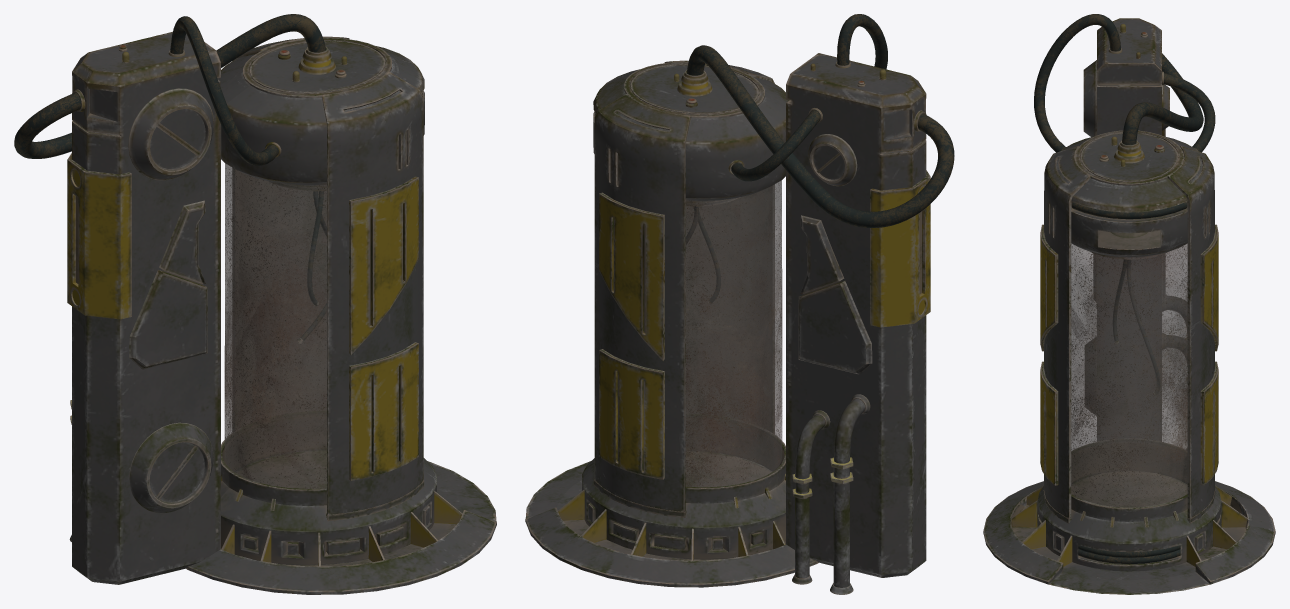
The model's file is sci-fi_capsule.glb.
The picture shows the model from 3 angles, left to right: view 1: azimuth 30°, elevation 25°; view 2: azimuth 150°, elevation 25°; view 3: azimuth 270°, elevation 25°; orthographic projection. The views are drawn at different scales.
Visible parts, largest first — view 1: Object.051_low, Object.054_low, Object.049_low, Object.050_low, Object.100_low, Object.052_low, Object.079_low, Object.068_low, Object.069_low, Object.104_low, Object.097_low, Object.023_low (+6 smaller); view 2: Object.051_low, Object.054_low, Object.049_low, Object.050_low, Object.100_low, Object.052_low, Object.068_low, Object.079_low, Object.069_low, Object.002_low, Object.020_low, Object.102_low (+10 smaller); view 3: Object.049_low, Object.054_low, Object.050_low, Object.051_low, Object.100_low, Object.052_low, Object.069_low, Object.068_low, Object.065_low, Object.002_low, Object.088_low, Object.105_low (+10 smaller).
Part boxes in pixels (box(x1,y1,x2,y2)): Object.051_low: box(72, 31, 220, 584); Object.054_low: box(232, 36, 423, 514); Object.049_low: box(224, 163, 326, 488); Object.050_low: box(221, 411, 436, 565); Object.100_low: box(217, 38, 424, 185); Object.052_low: box(186, 461, 496, 594); Object.079_low: box(67, 153, 131, 319); Object.068_low: box(349, 176, 418, 354); Object.069_low: box(349, 342, 418, 480); Object.104_low: box(129, 270, 207, 369); Object.097_low: box(128, 88, 214, 180); Object.023_low: box(129, 422, 213, 513); Object.051_low: box(786, 53, 926, 577); Object.054_low: box(594, 60, 774, 511); Object.049_low: box(685, 180, 782, 487); Object.050_low: box(582, 414, 785, 559); Object.100_low: box(593, 62, 789, 201); Object.052_low: box(525, 461, 818, 587); Object.068_low: box(599, 192, 664, 360); Object.079_low: box(870, 170, 930, 327); Object.069_low: box(599, 349, 664, 479); Object.002_low: box(687, 45, 954, 227); Object.020_low: box(798, 280, 872, 374); Object.102_low: box(800, 215, 844, 294); Object.049_low: box(1071, 243, 1187, 507); Object.054_low: box(1044, 146, 1214, 518); Object.050_low: box(1037, 438, 1221, 571); Object.051_low: box(1097, 18, 1161, 440); Object.100_low: box(1061, 130, 1197, 257); Object.052_low: box(983, 481, 1275, 594); Object.069_low: box(1040, 361, 1218, 485); Object.068_low: box(1040, 224, 1218, 351); Object.065_low: box(1034, 14, 1120, 152); Object.002_low: box(1122, 53, 1203, 144); Object.088_low: box(1164, 73, 1215, 152); Object.105_low: box(1098, 230, 1160, 249).
Bounding box in the file's own units: 2.48 × 2.98 × 1.72.
3 materials, 3 textured.
